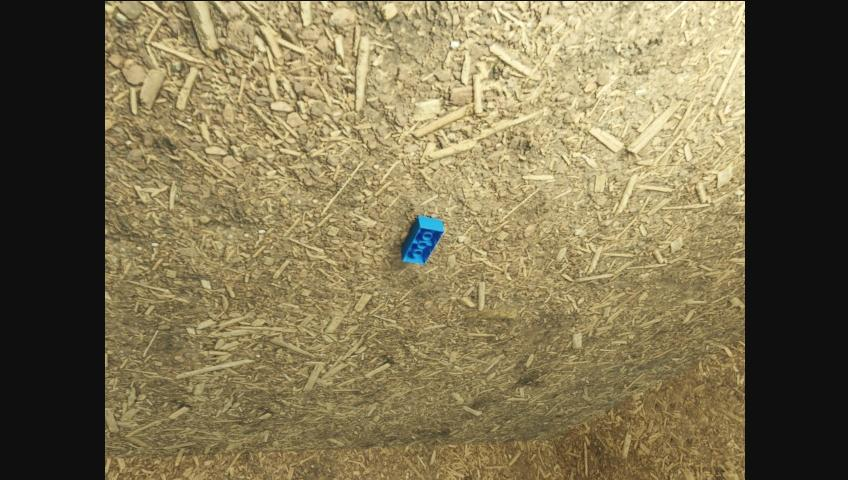4x2_blue: (401, 216, 444, 264)
